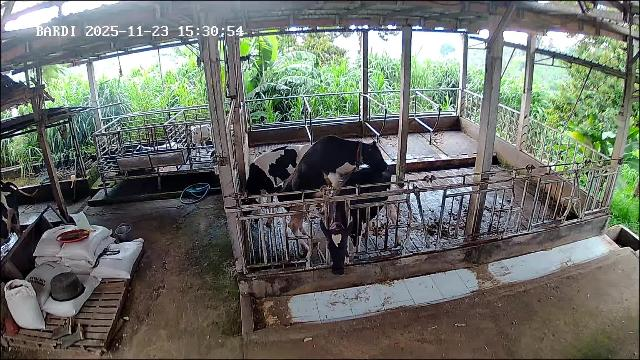mounting: (278, 136, 388, 250)
